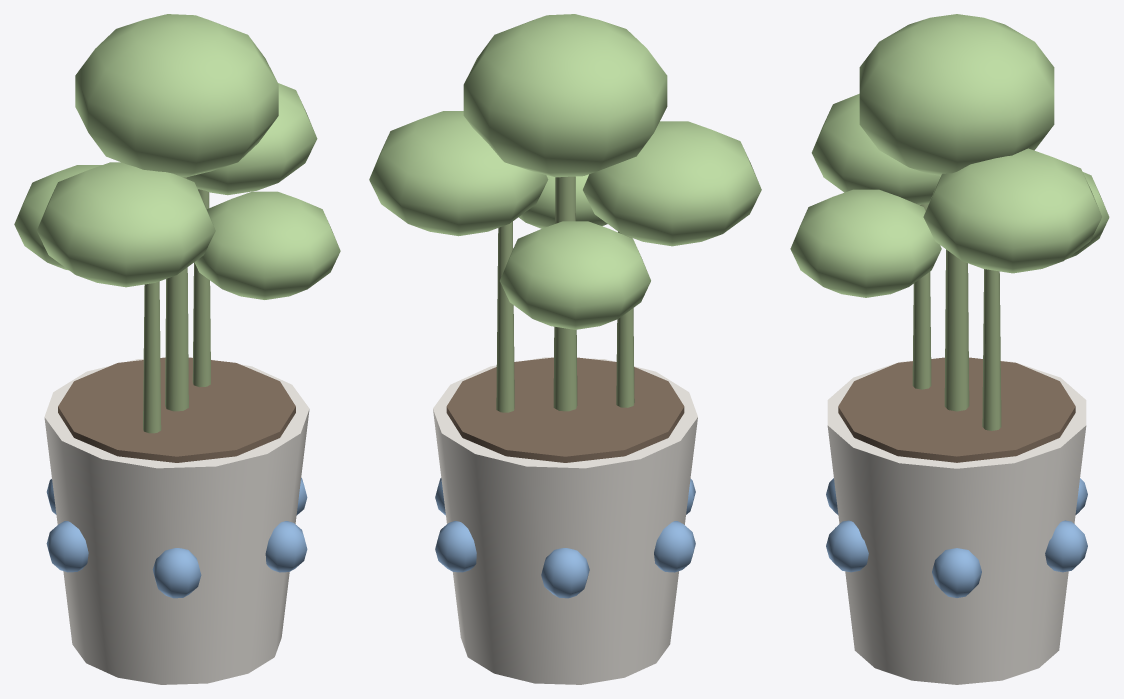
File: furniture_plant_pot.glb
3 renders of one model, left to right at view 1: azimuth 30°, elevation 25°; view 2: azimuth 150°, elevation 25°; view 3: azimuth 270°, elevation 25°, orthographic.
Parts seen in each view (by area): view 1: PlantPot; view 2: PlantPot; view 3: PlantPot.
Boxes of the visible parts, x1=… form: PlantPot: x1=14, y1=14, x2=340, y2=684; PlantPot: x1=369, y1=14, x2=761, y2=684; PlantPot: x1=790, y1=14, x2=1109, y2=684.
Bounding box in the file's own units: 0.5122 × 0.97 × 0.4567.
